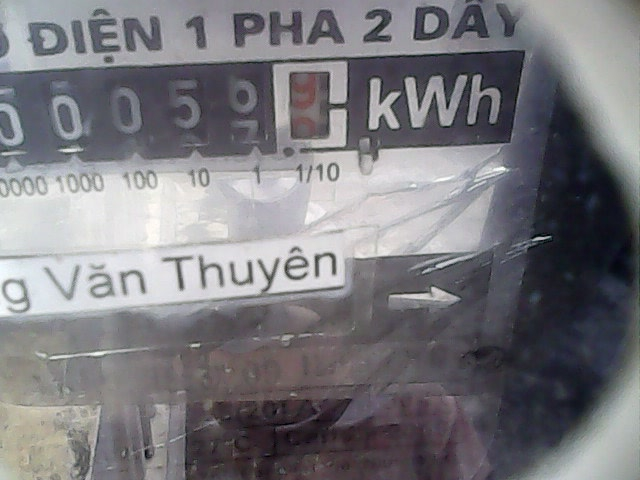phy_plate: (1, 52, 351, 165)
